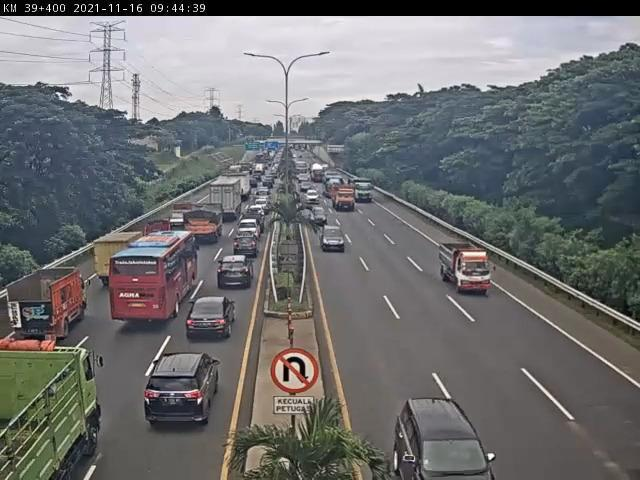bus: (109, 232, 198, 324)
car: (393, 400, 496, 480), (145, 355, 222, 423), (189, 297, 238, 337), (218, 258, 254, 293), (321, 224, 347, 251), (234, 238, 257, 261), (237, 216, 259, 239), (246, 204, 265, 219)
truck: (1, 333, 105, 480), (8, 268, 87, 335), (438, 243, 493, 296), (86, 237, 138, 289), (181, 207, 222, 247), (208, 183, 243, 224), (167, 201, 197, 230), (143, 217, 173, 245)
